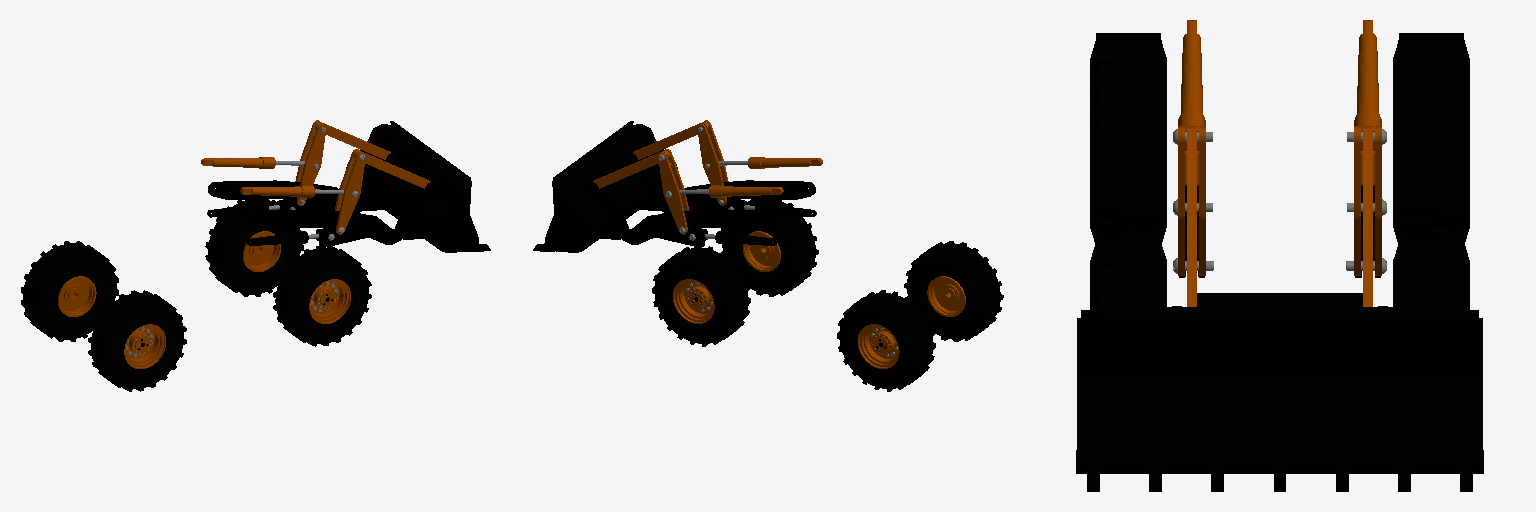
robot.urdf — wheel_loader:
<?xml version="1.0"?>
<robot name="wheel_loader">
  <link name="world">
    <inertial>
      <mass value="0.001"/>
      <origin xyz="0 0 0" rpy="0 0 0"/>
      <inertia ixx="0.0001" ixy="0" ixz="0" iyy="0.0001" iyz="0" izz="0.0001"/>
    </inertial>
  </link>
  <link name="attitude_yaw_link">
    <inertial>
      <mass value="0.001"/>
      <origin xyz="0 0 0" rpy="0 0 0"/>
      <inertia ixx="0.0001" ixy="0" ixz="0" iyy="0.0001" iyz="0" izz="0.0001"/>
    </inertial>
  </link>
  <link name="attitude_pitch_link">
    <inertial>
      <mass value="0.001"/>
      <origin xyz="0 0 0" rpy="0 0 0"/>
      <inertia ixx="0.0001" ixy="0" ixz="0" iyy="0.0001" iyz="0" izz="0.0001"/>
    </inertial>
  </link>
  <joint name="attitude_yaw" type="revolute">
    <origin xyz="0.000000 0.000000 0.000000" rpy="0 0 0"/>
    <parent link="world"/>
    <child link="attitude_yaw_link"/>
    <axis xyz="0.000000 0.000000 1.000000"/>
    <limit lower="-3.141592653589793" upper="3.141592653589793" effort="100000.0" velocity="2.0"/>
  </joint>
  <joint name="attitude_pitch" type="revolute">
    <origin xyz="0.000000 0.000000 0.000000" rpy="0 0 0"/>
    <parent link="attitude_yaw_link"/>
    <child link="attitude_pitch_link"/>
    <axis xyz="0.000000 1.000000 0.000000"/>
    <limit lower="-1.5707963267948966" upper="1.5707963267948966" effort="100000.0" velocity="2.0"/>
  </joint>
  <joint name="attitude_roll" type="revolute">
    <origin xyz="0.000000 0.000000 0.000000" rpy="0 0 0"/>
    <parent link="attitude_pitch_link"/>
    <child link="base_link"/>
    <axis xyz="1.000000 0.000000 0.000000"/>
    <limit lower="-1.5707963267948966" upper="1.5707963267948966" effort="100000.0" velocity="2.0"/>
  </joint>
  <link name="base_link">
    <inertial>
      <mass value="8000.0"/>
      <origin xyz="0 0 0" rpy="0 0 0"/>
      <inertia ixx="55266.667" ixy="0" ixz="0" iyy="70966.667" iyz="0" izz="82913.333"/>
    </inertial>
    <visual>
      <origin xyz="0 0 0" rpy="0 0 0"/>
      <geometry>
        <mesh filename="package://wheel_loader/meshes/base_link_visual.dae"/>
      </geometry>
    </visual>
    <collision>
      <origin xyz="0 0 0" rpy="0 0 0"/>
      <geometry>
        <mesh filename="package://wheel_loader/meshes/base_link_collision.stl"/>
      </geometry>
    </collision>
  </link>
  <link name="front_frame">
    <inertial>
      <mass value="4000.0"/>
      <origin xyz="0 0 0" rpy="0 0 0"/>
      <inertia ixx="24973.333" ixy="0" ixz="0" iyy="23266.667" iyz="0" izz="27333.333"/>
    </inertial>
    <visual>
      <origin xyz="0 0 0" rpy="0 0 0"/>
      <geometry>
        <mesh filename="package://wheel_loader/meshes/front_frame_visual.dae"/>
      </geometry>
    </visual>
    <collision>
      <origin xyz="0 0 0" rpy="0 0 0"/>
      <geometry>
        <mesh filename="package://wheel_loader/meshes/front_frame_collision.stl"/>
      </geometry>
    </collision>
  </link>
  <link name="boom">
    <inertial>
      <mass value="1200.0"/>
      <origin xyz="0 0 0" rpy="0 0 0"/>
      <inertia ixx="1585.000" ixy="0" ixz="0" iyy="7178.000" iyz="0" izz="8185.000"/>
    </inertial>
    <visual>
      <origin xyz="0 0 0" rpy="0 0 0"/>
      <geometry>
        <mesh filename="package://wheel_loader/meshes/boom_visual.dae"/>
      </geometry>
    </visual>
    <collision>
      <origin xyz="0 0 0" rpy="0 0 0"/>
      <geometry>
        <mesh filename="package://wheel_loader/meshes/boom_collision.stl"/>
      </geometry>
    </collision>
  </link>
  <link name="bucket">
    <inertial>
      <mass value="900.0"/>
      <origin xyz="0 0 0" rpy="0 0 0"/>
      <inertia ixx="5652.750" ixy="0" ixz="0" iyy="1839.000" iyz="0" izz="5547.750"/>
    </inertial>
    <visual>
      <origin xyz="0 0 0" rpy="0 0 0"/>
      <geometry>
        <mesh filename="package://wheel_loader/meshes/bucket_visual.dae"/>
      </geometry>
    </visual>
    <collision>
      <origin xyz="0 0 0" rpy="0 0 0"/>
      <geometry>
        <mesh filename="package://wheel_loader/meshes/bucket_collision.stl"/>
      </geometry>
    </collision>
  </link>
  <link name="bucket_link">
    <inertial>
      <mass value="300.0"/>
      <origin xyz="0 0 0" rpy="0 0 0"/>
      <inertia ixx="926.500" ixy="0" ixz="0" iyy="848.500" iyz="0" izz="762.500"/>
    </inertial>
    <visual>
      <origin xyz="0 0 0" rpy="0 0 0"/>
      <geometry>
        <mesh filename="package://wheel_loader/meshes/bucket_link_visual.dae"/>
      </geometry>
    </visual>
    <collision>
      <origin xyz="0 0 0" rpy="0 0 0"/>
      <geometry>
        <mesh filename="package://wheel_loader/meshes/bucket_link_collision.stl"/>
      </geometry>
    </collision>
  </link>
  <link name="boom_cylinder">
    <inertial>
      <mass value="120.0"/>
      <origin xyz="0 0 0" rpy="0 0 0"/>
      <inertia ixx="155.700" ixy="0" ixz="0" iyy="87.700" iyz="0" izz="236.200"/>
    </inertial>
    <visual>
      <origin xyz="0 0 0" rpy="0 0 0"/>
      <geometry>
        <mesh filename="package://wheel_loader/meshes/boom_cylinder_visual.dae"/>
      </geometry>
    </visual>
    <collision>
      <origin xyz="0 0 0" rpy="0 0 0"/>
      <geometry>
        <mesh filename="package://wheel_loader/meshes/boom_cylinder_collision.stl"/>
      </geometry>
    </collision>
  </link>
  <link name="boom_cylinder_rod">
    <inertial>
      <mass value="60.0"/>
      <origin xyz="0 0 0" rpy="0 0 0"/>
      <inertia ixx="85.300" ixy="0" ixz="0" iyy="30.050" iyz="0" izz="112.850"/>
    </inertial>
    <visual>
      <origin xyz="0 0 0" rpy="0 0 0"/>
      <geometry>
        <mesh filename="package://wheel_loader/meshes/boom_cylinder_rod_visual.dae"/>
      </geometry>
    </visual>
    <collision>
      <origin xyz="0 0 0" rpy="0 0 0"/>
      <geometry>
        <mesh filename="package://wheel_loader/meshes/boom_cylinder_rod_visual.stl"/>
      </geometry>
    </collision>
  </link>
  <link name="bucket_cylinder">
    <inertial>
      <mass value="120.0"/>
      <origin xyz="0 0 0" rpy="0 0 0"/>
      <inertia ixx="163.600" ixy="0" ixz="0" iyy="133.200" iyz="0" izz="289.600"/>
    </inertial>
    <visual>
      <origin xyz="0 0 0" rpy="0 0 0"/>
      <geometry>
        <mesh filename="package://wheel_loader/meshes/bucket_cylinder_visual.dae"/>
      </geometry>
    </visual>
    <collision>
      <origin xyz="0 0 0" rpy="0 0 0"/>
      <geometry>
        <mesh filename="package://wheel_loader/meshes/bucket_cylinder_collision.stl"/>
      </geometry>
    </collision>
  </link>
  <link name="bucket_cylinder_rod">
    <inertial>
      <mass value="60.0"/>
      <origin xyz="0 0 0" rpy="0 0 0"/>
      <inertia ixx="144.800" ixy="0" ixz="0" iyy="82.450" iyz="0" izz="67.250"/>
    </inertial>
    <visual>
      <origin xyz="0 0 0" rpy="0 0 0"/>
      <geometry>
        <mesh filename="package://wheel_loader/meshes/bucket_cylinder_rod_visual.dae"/>
      </geometry>
    </visual>
    <collision>
      <origin xyz="0 0 0" rpy="0 0 0"/>
      <geometry>
        <mesh filename="package://wheel_loader/meshes/bucket_cylinder_rod_visual.stl"/>
      </geometry>
    </collision>
  </link>
  <link name="wheel_front_left">
    <inertial>
      <mass value="350.0"/>
      <origin xyz="0 0 0" rpy="0 0 0"/>
      <inertia ixx="460.742" ixy="0" ixz="0" iyy="460.742" iyz="0" izz="790.234"/>
    </inertial>
    <visual>
      <origin xyz="0 0 0" rpy="0 0 0"/>
      <geometry>
        <mesh filename="package://wheel_loader/meshes/wheel_front_left_visual.dae"/>
      </geometry>
    </visual>
    <collision>
      <origin xyz="0 0 0" rpy="1.570796 0 0"/>
      <geometry>
        <cylinder radius="2.125" length="1.5"/>
      </geometry>
    </collision>
  </link>
  <link name="wheel_front_right">
    <inertial>
      <mass value="350.0"/>
      <origin xyz="0 0 0" rpy="0 0 0"/>
      <inertia ixx="460.742" ixy="0" ixz="0" iyy="460.742" iyz="0" izz="790.234"/>
    </inertial>
    <visual>
      <origin xyz="0 0 0" rpy="0 0 0"/>
      <geometry>
        <mesh filename="package://wheel_loader/meshes/wheel_front_right_visual.dae"/>
      </geometry>
    </visual>
    <collision>
      <origin xyz="0 0 0" rpy="1.570796 0 0"/>
      <geometry>
        <cylinder radius="2.125" length="1.5"/>
      </geometry>
    </collision>
  </link>
  <link name="wheel_rear_left">
    <inertial>
      <mass value="350.0"/>
      <origin xyz="0 0 0" rpy="0 0 0"/>
      <inertia ixx="460.742" ixy="0" ixz="0" iyy="460.742" iyz="0" izz="790.234"/>
    </inertial>
    <visual>
      <origin xyz="0 0 0" rpy="0 0 0"/>
      <geometry>
        <mesh filename="package://wheel_loader/meshes/wheel_rear_left_visual.dae"/>
      </geometry>
    </visual>
    <collision>
      <origin xyz="0 0 0" rpy="1.570796 0 0"/>
      <geometry>
        <cylinder radius="2.125" length="1.5"/>
      </geometry>
    </collision>
  </link>
  <link name="wheel_rear_right">
    <inertial>
      <mass value="350.0"/>
      <origin xyz="0 0 0" rpy="0 0 0"/>
      <inertia ixx="460.742" ixy="0" ixz="0" iyy="460.742" iyz="0" izz="790.234"/>
    </inertial>
    <visual>
      <origin xyz="0 0 0" rpy="0 0 0"/>
      <geometry>
        <mesh filename="package://wheel_loader/meshes/wheel_rear_right_visual.dae"/>
      </geometry>
    </visual>
    <collision>
      <origin xyz="0 0 0" rpy="1.570796 0 0"/>
      <geometry>
        <cylinder radius="2.125" length="1.5"/>
      </geometry>
    </collision>
  </link>
  <joint name="articulation" type="revolute">
    <origin xyz="1.075000 -0.000000 0.000000" rpy="0 0 0"/>
    <parent link="base_link"/>
    <child link="front_frame"/>
    <axis xyz="0.000000 0.000000 1.000000"/>
    <limit lower="-0.6981317007977318" upper="0.6981317007977318" effort="100000.0" velocity="2.0"/>
  </joint>
  <joint name="boom_pivot" type="revolute">
    <origin xyz="1.825028 0.000000 4.351088" rpy="0 0 0"/>
    <parent link="front_frame"/>
    <child link="boom"/>
    <axis xyz="0.000000 1.000000 0.000000"/>
    <limit lower="-0.6" upper="0.9" effort="100000.0" velocity="2.0"/>
  </joint>
  <link name="tiltrotator_mount">
    <inertial>
      <mass value="0.001"/>
      <origin xyz="0 0 0" rpy="0 0 0"/>
      <inertia ixx="0.0001" ixy="0" ixz="0" iyy="0.0001" iyz="0" izz="0.0001"/>
    </inertial>
  </link>
  <link name="tiltrotator_rotator">
    <inertial>
      <mass value="0.001"/>
      <origin xyz="0 0 0" rpy="0 0 0"/>
      <inertia ixx="0.0001" ixy="0" ixz="0" iyy="0.0001" iyz="0" izz="0.0001"/>
    </inertial>
  </link>
  <joint name="bucket_pivot" type="revolute">
    <origin xyz="7.346935 -0.000001 -2.465976" rpy="0 0 0"/>
    <parent link="boom"/>
    <child link="tiltrotator_mount"/>
    <axis xyz="0.000000 1.000000 0.000000"/>
    <limit lower="-1.2" upper="0.8" effort="100000.0" velocity="2.0"/>
  </joint>
  <joint name="tiltrotator_tilt" type="revolute">
    <origin xyz="0.000000 0.000000 0.000000" rpy="0 0 0"/>
    <parent link="tiltrotator_mount"/>
    <child link="tiltrotator_rotator"/>
    <axis xyz="1.000000 0.000000 0.000000"/>
    <limit lower="-0.7853981633974483" upper="0.7853981633974483" effort="100000.0" velocity="2.0"/>
  </joint>
  <joint name="tiltrotator_rotate" type="continuous">
    <origin xyz="0.000000 0.000000 0.000000" rpy="0 0 0"/>
    <parent link="tiltrotator_rotator"/>
    <child link="bucket"/>
    <axis xyz="0.000000 0.000000 1.000000"/>
    <limit effort="100000.0" velocity="2.0"/>
  </joint>
  <joint name="bucket_link_pivot" type="revolute">
    <origin xyz="4.195413 -0.000001 -1.469675" rpy="0 0 0"/>
    <parent link="boom"/>
    <child link="bucket_link"/>
    <axis xyz="0.000000 1.000000 0.000000"/>
    <limit lower="-1.2" upper="1.2" effort="100000.0" velocity="2.0"/>
  </joint>
  <joint name="boom_cylinder_mount" type="fixed">
    <origin xyz="1.650000 0.000000 3.225000" rpy="0 0 0"/>
    <parent link="front_frame"/>
    <child link="boom_cylinder"/>
  </joint>
  <joint name="boom_cylinder_rod_mount" type="fixed">
    <origin xyz="3.706540 0.000000 -1.680762" rpy="0 0 0"/>
    <parent link="boom"/>
    <child link="boom_cylinder_rod"/>
  </joint>
  <joint name="bucket_cylinder_mount" type="fixed">
    <origin xyz="-0.405028 0.000000 1.378912" rpy="0 0 0"/>
    <parent link="boom"/>
    <child link="bucket_cylinder"/>
  </joint>
  <joint name="bucket_cylinder_rod_mount" type="fixed">
    <origin xyz="0.685263 0.000000 1.565581" rpy="0 0 0"/>
    <parent link="bucket_link"/>
    <child link="bucket_cylinder_rod"/>
  </joint>
  <joint name="wheel_front_left_axle" type="continuous">
    <origin xyz="4.524298 2.939999 0.489833" rpy="0 0 0"/>
    <parent link="front_frame"/>
    <child link="wheel_front_left"/>
    <axis xyz="0.000000 1.000000 0.000000"/>
    <limit effort="100000.0" velocity="2.0"/>
  </joint>
  <joint name="wheel_front_right_axle" type="continuous">
    <origin xyz="4.524298 -2.940000 0.489833" rpy="0 0 0"/>
    <parent link="front_frame"/>
    <child link="wheel_front_right"/>
    <axis xyz="0.000000 1.000000 0.000000"/>
    <limit effort="100000.0" velocity="2.0"/>
  </joint>
  <joint name="wheel_rear_left_axle" type="continuous">
    <origin xyz="-3.650012 2.940000 0.489833" rpy="0 0 0"/>
    <parent link="base_link"/>
    <child link="wheel_rear_left"/>
    <axis xyz="0.000000 1.000000 0.000000"/>
    <limit effort="100000.0" velocity="2.0"/>
  </joint>
  <joint name="wheel_rear_right_axle" type="continuous">
    <origin xyz="-3.650012 -2.940000 0.489833" rpy="0 0 0"/>
    <parent link="base_link"/>
    <child link="wheel_rear_right"/>
    <axis xyz="0.000000 1.000000 0.000000"/>
    <limit effort="100000.0" velocity="2.0"/>
  </joint>
</robot>

--- Render facts (derived) ---
3 views of the same robot in one strip: view 1: azimuth 30°, elevation 25°; view 2: azimuth 150°, elevation 25°; view 3: azimuth 270°, elevation 25° (orthographic).
Robot: wheel_loader — 18 links, 17 joints (8 revolute, 5 continuous, 4 fixed); root link world; default pose: all joints at 0.
Visible links, largest first — view 1: bucket, wheel_front_right, wheel_rear_right, wheel_rear_left, wheel_front_left, boom, bucket_link, bucket_cylinder, boom_cylinder; view 2: bucket, wheel_rear_left, wheel_front_left, wheel_rear_right, wheel_front_right, boom, bucket_link, bucket_cylinder, boom_cylinder; view 3: bucket, wheel_rear_left, wheel_rear_right, bucket_link, wheel_front_right, wheel_front_left, bucket_cylinder, boom.
Link boxes in pixels (x1,y1,x2,y2): bucket: (346,121,490,252); wheel_front_right: (273,245,371,346); wheel_rear_right: (88,290,186,391); wheel_rear_left: (21,241,118,341); wheel_front_left: (205,199,303,296); boom: (208,180,402,247); bucket_link: (295,120,430,234); bucket_cylinder: (201,157,314,197); boom_cylinder: (207,202,308,245); bucket: (533,121,677,252); wheel_rear_left: (837,290,935,391); wheel_front_left: (652,245,750,346); wheel_rear_right: (904,241,1003,341); wheel_front_right: (721,199,818,296); boom: (621,180,815,247); bucket_link: (593,120,728,234); bucket_cylinder: (709,157,822,197); boom_cylinder: (715,202,816,245); bucket: (1076,305,1483,491); wheel_rear_left: (1393,33,1469,242); wheel_rear_right: (1090,33,1166,242); bucket_link: (1173,126,1386,306); wheel_front_right: (1090,236,1166,309); wheel_front_left: (1393,236,1469,309); bucket_cylinder: (1178,20,1381,150); boom: (1197,293,1362,306).
Bounding box of the posed robot: 19.37 × 7.88 × 7.95 m (x, y, z).
11 mesh visuals loaded from 13 distinct referenced files (11 Collada DAE); not drawn: 2 (reference not matched to a file when rendering).
